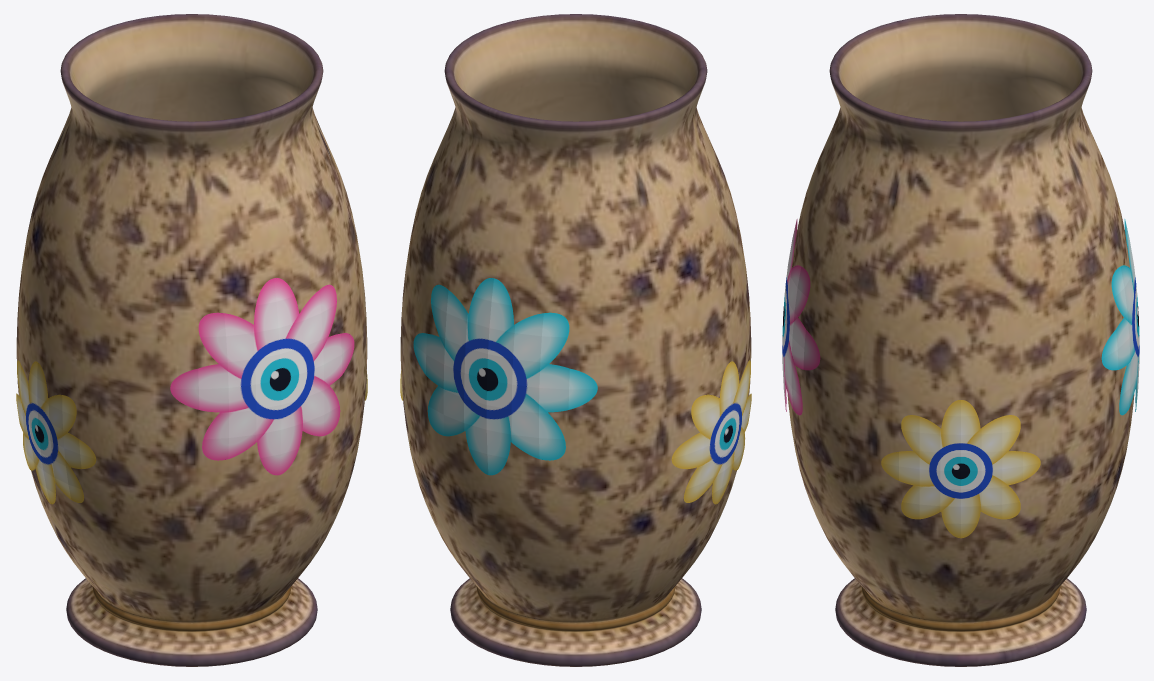
Rendered from nyb_loft_urn.glb.
The picture shows the model from 3 angles, left to right: view 1: azimuth 30°, elevation 25°; view 2: azimuth 150°, elevation 25°; view 3: azimuth 270°, elevation 25°; orthographic projection.
Visible parts, largest first — view 1: antique_ceramic_vase_01, stk_eyeflower.png, stk_eyeflower_gold.png.001; view 2: antique_ceramic_vase_01, stk_eyeflower_cyan.png, stk_eyeflower_gold.png.001; view 3: antique_ceramic_vase_01, stk_eyeflower_gold.png, stk_eyeflower.png, stk_eyeflower_cyan.png.
Boxes of the visible parts, left/top/right/bottom form: antique_ceramic_vase_01: left=16, top=14, right=367, bottom=666; stk_eyeflower.png: left=170, top=278, right=354, bottom=475; stk_eyeflower_gold.png.001: left=16, top=360, right=96, bottom=504; antique_ceramic_vase_01: left=400, top=14, right=751, bottom=666; stk_eyeflower_cyan.png: left=413, top=278, right=597, bottom=475; stk_eyeflower_gold.png.001: left=671, top=360, right=751, bottom=504; antique_ceramic_vase_01: left=787, top=14, right=1134, bottom=666; stk_eyeflower_gold.png: left=881, top=400, right=1040, bottom=538; stk_eyeflower.png: left=782, top=219, right=820, bottom=415; stk_eyeflower_cyan.png: left=1101, top=219, right=1139, bottom=415.
Bounding box in the file's own units: 0.26 × 0.4396 × 0.26.
Materials: 5 (5 with a texture image).
